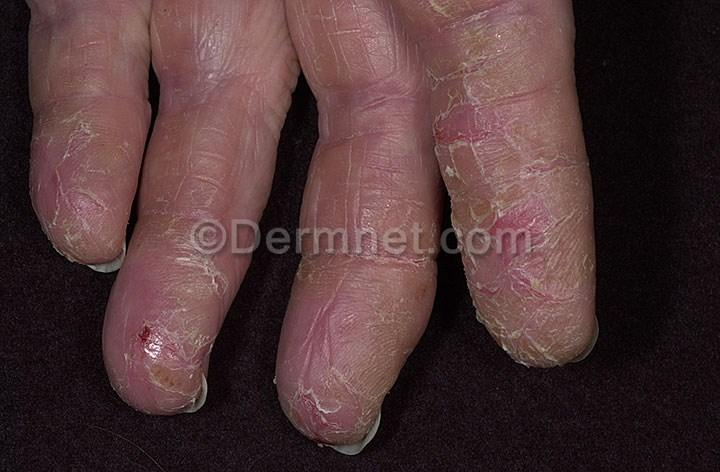Eczema: (154, 28, 240, 130), (320, 72, 402, 169), (446, 110, 519, 199), (31, 147, 107, 230), (520, 114, 584, 211), (432, 37, 512, 112), (454, 190, 519, 279), (523, 213, 592, 296), (148, 227, 236, 291), (359, 214, 435, 284), (117, 340, 188, 412), (320, 330, 377, 419), (52, 83, 120, 157), (506, 36, 568, 117), (28, 0, 113, 58), (286, 268, 349, 346), (510, 293, 576, 364), (103, 287, 182, 342), (357, 283, 418, 351), (270, 332, 322, 406), (474, 272, 536, 332), (292, 388, 355, 447), (169, 289, 220, 361), (433, 0, 516, 40), (56, 209, 120, 259), (306, 213, 355, 270), (119, 236, 158, 291), (563, 297, 598, 351)
